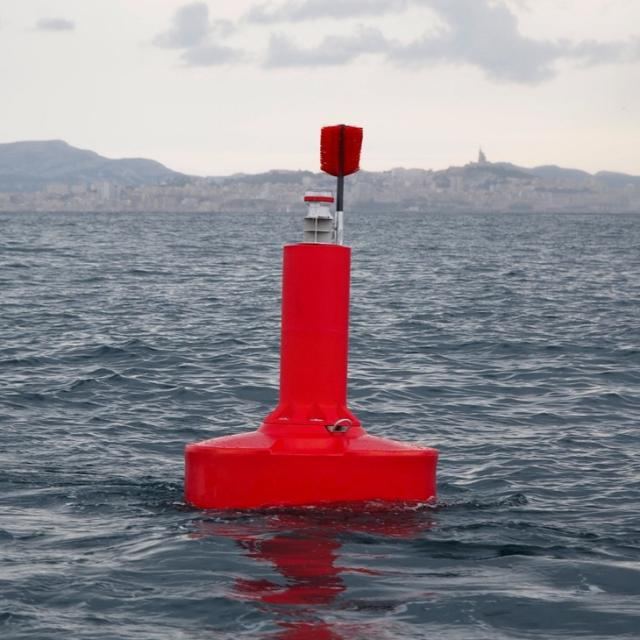buoy: (176, 115, 449, 518)
